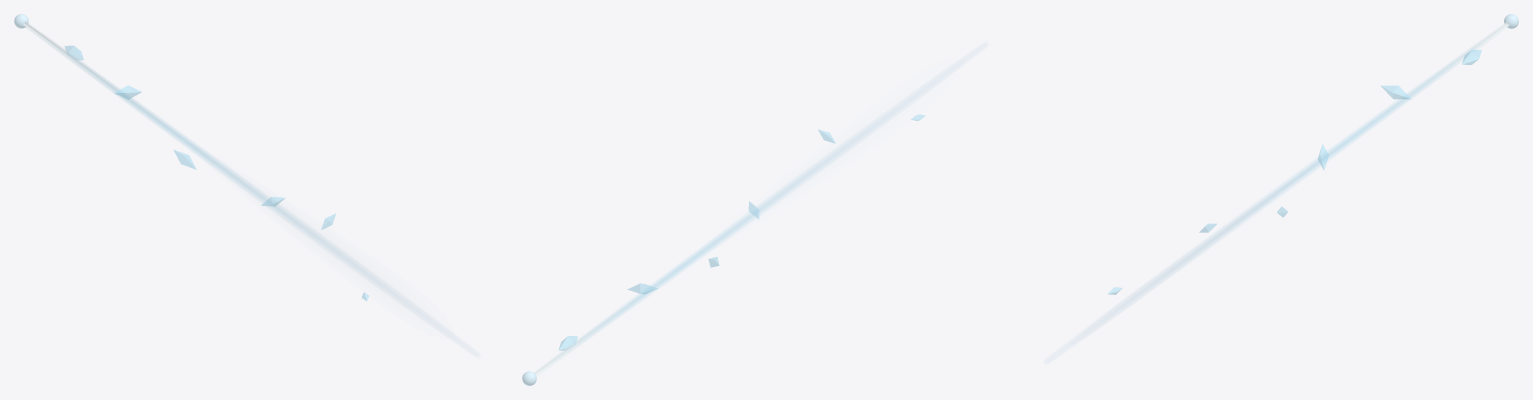
The model's file is vfx_tracer_cryo.glb.
The picture shows the model from 3 angles, left to right: view 1: azimuth 30°, elevation 25°; view 2: azimuth 150°, elevation 25°; view 3: azimuth 330°, elevation 25°; orthographic projection.
Parts seen in each view (by area): view 1: vfx_tracer_cryo_streak_b, vfx_tracer_cryo_streak_a; view 2: vfx_tracer_cryo_streak_b, vfx_tracer_cryo_streak_a; view 3: vfx_tracer_cryo_streak_b, vfx_tracer_cryo_streak_a.
Part boxes in pixels (<box>): vfx_tracer_cryo_streak_b: <box>25,21,287,215</box>; vfx_tracer_cryo_streak_a: <box>23,24,287,216</box>; vfx_tracer_cryo_streak_b: <box>534,182,796,375</box>; vfx_tracer_cryo_streak_a: <box>534,185,794,375</box>; vfx_tracer_cryo_streak_b: <box>1251,21,1507,211</box>; vfx_tracer_cryo_streak_a: <box>1240,24,1509,220</box>.
Bounding box in the file's own units: 0.0609 × 0.0624 × 1.01.
